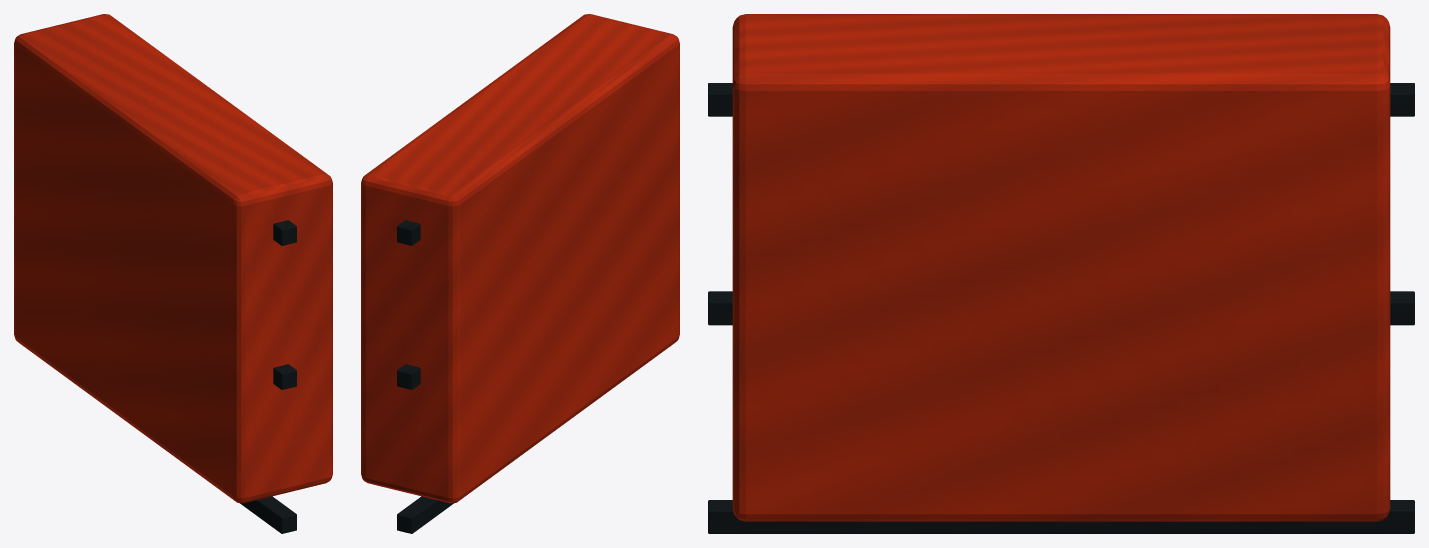
Rendered from STW_INDUSTRIAL_YARD_01_props.fbx.
3 renders of one model, left to right at view 1: azimuth 30°, elevation 25°; view 2: azimuth 150°, elevation 25°; view 3: azimuth 270°, elevation 25°, orthographic. The views are drawn at different scales.
Visible parts, largest first — view 1: west_signage, IY_SignFrame_00, IY_SignFrame_01, IY_SignFrame_02; view 2: west_signage, IY_SignFrame_00, IY_SignFrame_01, IY_SignFrame_02; view 3: west_signage, IY_SignFrame_00, IY_SignFrame_01, IY_SignFrame_02.
Boxes of the visible parts, x1,y1,x2,y2 form: west_signage: (14,14,332,503); IY_SignFrame_00: (240,496,296,533); IY_SignFrame_01: (273,364,296,389); IY_SignFrame_02: (273,220,296,245); west_signage: (361,14,679,503); IY_SignFrame_00: (397,496,453,533); IY_SignFrame_01: (397,364,420,389); IY_SignFrame_02: (397,220,420,245); west_signage: (732,14,1390,521); IY_SignFrame_00: (708,500,1414,533); IY_SignFrame_01: (708,291,1414,325); IY_SignFrame_02: (708,83,1414,116).
Bounding box in the file's own units: 50 × 215 × 164.
2 materials, 2 textured.
